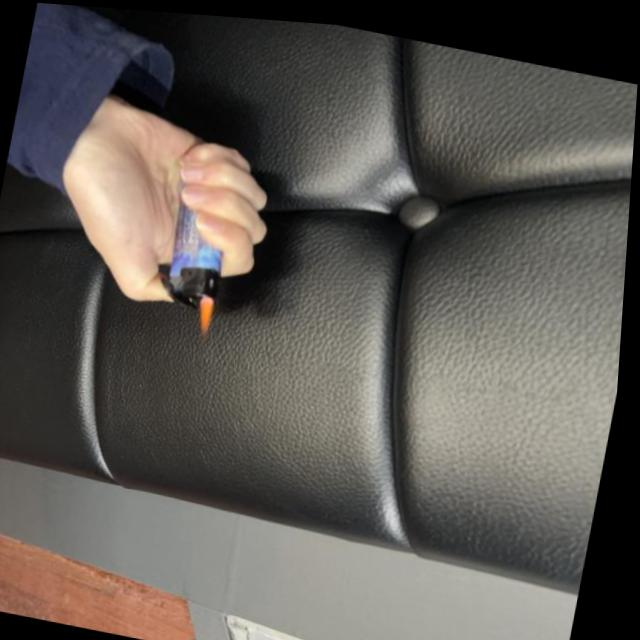Fire: (198, 290, 219, 333)
